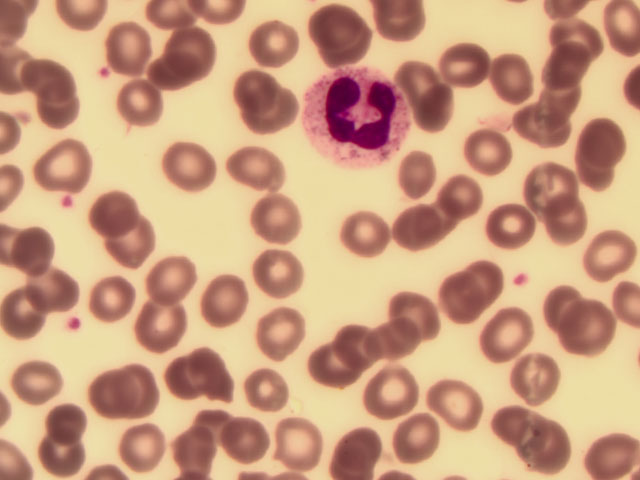Platelets: (514, 271, 532, 289), (66, 317, 83, 334), (18, 111, 34, 126), (97, 62, 109, 82), (62, 192, 75, 209)
RBC: (20, 51, 75, 99), (36, 94, 91, 142), (41, 142, 96, 190), (83, 186, 138, 234), (106, 219, 161, 267), (18, 224, 73, 272), (26, 261, 81, 309), (3, 285, 58, 333), (12, 360, 67, 408), (46, 393, 101, 441), (31, 431, 86, 479), (83, 374, 138, 422), (112, 369, 167, 417), (131, 308, 186, 356), (148, 254, 203, 302), (87, 275, 142, 323), (194, 275, 249, 323), (253, 251, 308, 299), (255, 197, 310, 245), (233, 145, 288, 193), (163, 142, 218, 190), (111, 78, 166, 126), (134, 57, 189, 105), (161, 18, 216, 66), (104, 19, 159, 67), (251, 19, 306, 67), (220, 60, 275, 108), (237, 91, 292, 139), (254, 307, 309, 355), (245, 369, 300, 417), (199, 349, 254, 397), (156, 356, 211, 404), (165, 424, 220, 472), (112, 423, 167, 471), (221, 415, 276, 463), (268, 420, 323, 468), (324, 421, 379, 469), (386, 417, 441, 465), (422, 384, 477, 432), (365, 368, 420, 416), (305, 347, 360, 395), (332, 317, 387, 365), (367, 315, 422, 363), (387, 284, 442, 332), (338, 210, 393, 258), (393, 203, 448, 251), (430, 177, 485, 225), (401, 149, 456, 197), (413, 84, 468, 132), (405, 57, 460, 105), (306, 6, 361, 54), (435, 36, 490, 84), (485, 49, 540, 97), (538, 38, 593, 86), (585, 5, 640, 53), (581, 113, 636, 161), (527, 166, 582, 214), (511, 106, 566, 154), (525, 80, 580, 128), (463, 128, 518, 176), (488, 206, 543, 254), (545, 203, 600, 251), (585, 229, 640, 277), (568, 311, 623, 359), (529, 283, 584, 331), (475, 312, 530, 360), (425, 278, 480, 326), (459, 252, 514, 300), (512, 350, 567, 398), (484, 403, 539, 451), (519, 423, 574, 471), (585, 432, 640, 480), (372, 1, 427, 48), (548, 1, 603, 48)
WBC: (306, 66, 409, 164)
